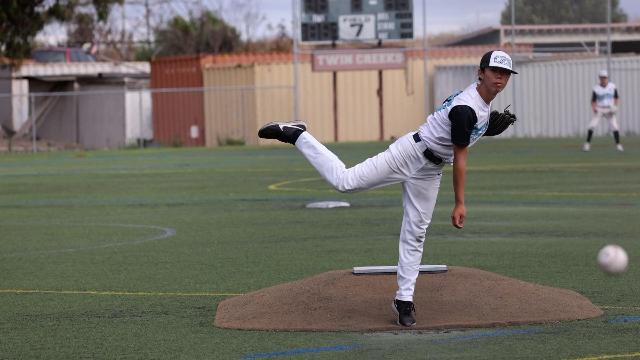ball: (598, 244, 630, 276)
